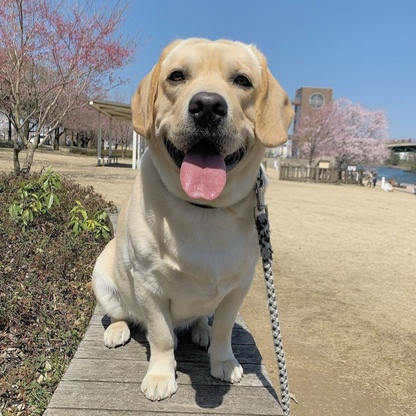labrado: (89, 32, 297, 405)
